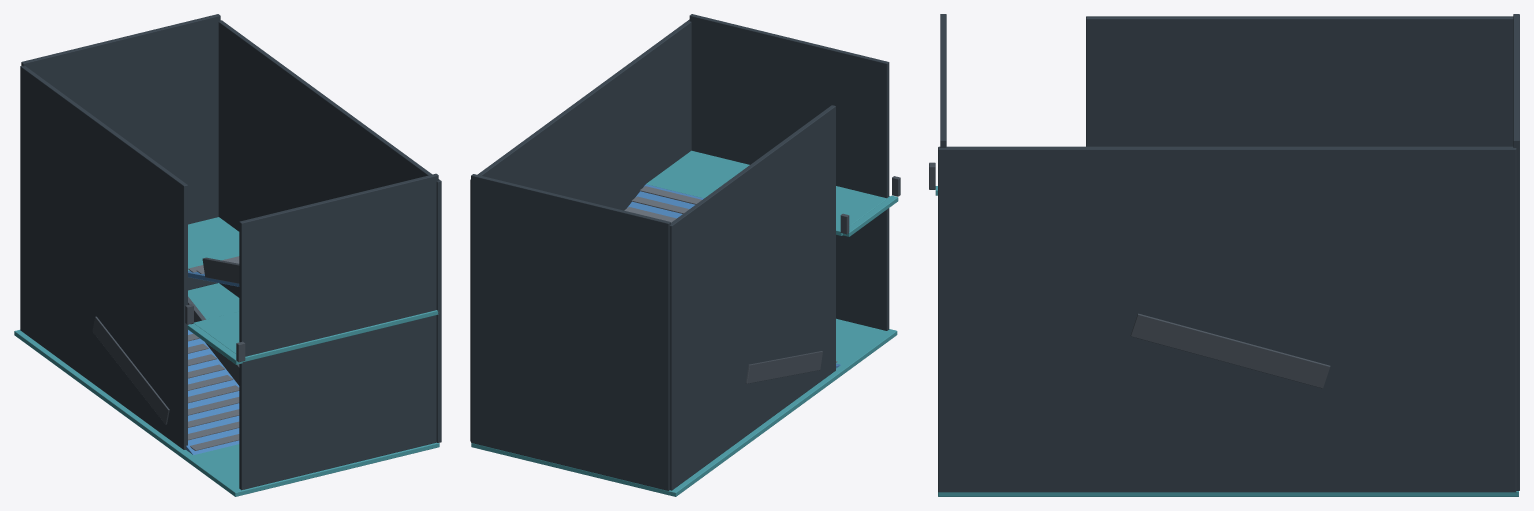
File: env_tower_stairwell_generic_9m_top3d_v001.glb
3 views of the same model, side by side, from view 1: azimuth 30°, elevation 25°; view 2: azimuth 150°, elevation 25°; view 3: azimuth 270°, elevation 25° (orthographic). The views are drawn at different scales.
Visible parts, largest first — view 1: Stair_Generic_Rotatable_EnclosureWall_DoorSide, Stair_Generic_Rotatable_EnclosureWall_Inner, Stair_Generic_Rotatable_EnclosureWall_Outer, Stair_Generic_Rotatable_EnclosureWall_Far, Stair_Generic_Rotatable_LowerDoorLanding_Walkable, Stair_Generic_Rotatable_LowerFlight_Walkable, Stair_Generic_Rotatable_UpperDoorLanding_Walkable, Stair_Generic_Rotatable_TurnLanding_Walkable, Stair_Generic_Rotatable_LowerFlight_Guard_01, Stair_Generic_Rotatable_UpperFlight_Guard_02, Stair_Generic_Rotatable_CoreConnector_Walkable, Stair_Generic_Rotatable_LowerFlight_Guard_02; view 2: Stair_Generic_Rotatable_EnclosureWall_Far, Stair_Generic_Rotatable_EnclosureWall_Inner, Stair_Generic_Rotatable_EnclosureWall_DoorSide, Stair_Generic_Rotatable_EnclosureWall_Outer, Stair_Generic_Rotatable_LowerDoorLanding_Walkable, Stair_Generic_Rotatable_UpperDoorLanding_Walkable, Stair_Generic_Rotatable_LowerFlight_Guard_01, Stair_Generic_Rotatable_UpperFlight_Walkable, Stair_Generic_Rotatable_CoreConnector_Walkable; view 3: Stair_Generic_Rotatable_EnclosureWall_Outer, Stair_Generic_Rotatable_EnclosureWall_Inner, Stair_Generic_Rotatable_UpperFlight_Guard_01, Stair_Generic_Rotatable_LowerDoorLanding_Walkable, Stair_Generic_Rotatable_EnclosureWall_Far, Stair_Generic_Rotatable_EnclosureWall_DoorSide.
Boxes of the visible parts, x1,y1,x2,y2 form: Stair_Generic_Rotatable_EnclosureWall_DoorSide: (239, 173, 438, 490); Stair_Generic_Rotatable_EnclosureWall_Inner: (20, 65, 187, 449); Stair_Generic_Rotatable_EnclosureWall_Outer: (218, 20, 441, 442); Stair_Generic_Rotatable_EnclosureWall_Far: (21, 14, 220, 290); Stair_Generic_Rotatable_LowerDoorLanding_Walkable: (14, 283, 439, 496); Stair_Generic_Rotatable_LowerFlight_Walkable: (186, 324, 239, 454); Stair_Generic_Rotatable_UpperDoorLanding_Walkable: (193, 310, 438, 362); Stair_Generic_Rotatable_TurnLanding_Walkable: (188, 217, 239, 270); Stair_Generic_Rotatable_LowerFlight_Guard_01: (92, 316, 169, 424); Stair_Generic_Rotatable_UpperFlight_Guard_02: (202, 257, 239, 283); Stair_Generic_Rotatable_CoreConnector_Walkable: (187, 323, 242, 364); Stair_Generic_Rotatable_LowerFlight_Guard_02: (188, 296, 239, 385); Stair_Generic_Rotatable_EnclosureWall_Far: (471, 174, 670, 490); Stair_Generic_Rotatable_EnclosureWall_Inner: (669, 105, 835, 490); Stair_Generic_Rotatable_EnclosureWall_DoorSide: (689, 14, 889, 330); Stair_Generic_Rotatable_EnclosureWall_Outer: (470, 19, 691, 441); Stair_Generic_Rotatable_LowerDoorLanding_Walkable: (471, 318, 897, 496); Stair_Generic_Rotatable_UpperDoorLanding_Walkable: (646, 150, 890, 235); Stair_Generic_Rotatable_LowerFlight_Guard_01: (745, 351, 822, 383); Stair_Generic_Rotatable_UpperFlight_Walkable: (627, 184, 703, 218); Stair_Generic_Rotatable_CoreConnector_Walkable: (843, 195, 898, 236); Stair_Generic_Rotatable_EnclosureWall_Outer: (938, 146, 1516, 492); Stair_Generic_Rotatable_EnclosureWall_Inner: (1086, 16, 1513, 146); Stair_Generic_Rotatable_UpperFlight_Guard_01: (1130, 313, 1330, 388); Stair_Generic_Rotatable_LowerDoorLanding_Walkable: (938, 491, 1518, 496); Stair_Generic_Rotatable_EnclosureWall_Far: (1513, 14, 1519, 490); Stair_Generic_Rotatable_EnclosureWall_DoorSide: (940, 14, 946, 147).
Bounding box in the file's own units: 14.75 × 18.41 × 27.62.
